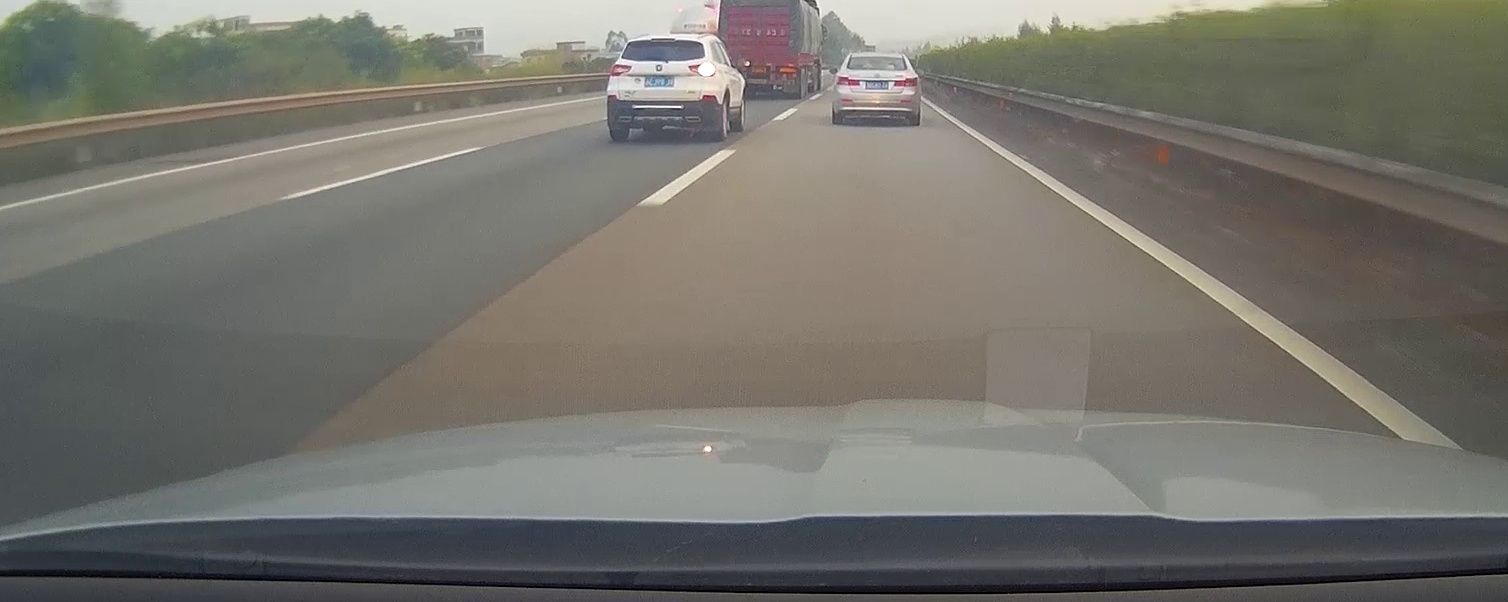L_light: (610, 64, 633, 77), (835, 75, 860, 86)
R_light: (687, 61, 716, 77), (893, 77, 918, 87)
T_light: (651, 38, 675, 42), (869, 68, 882, 69)
day-no: (831, 52, 922, 126)
night-left: (607, 34, 722, 142)
